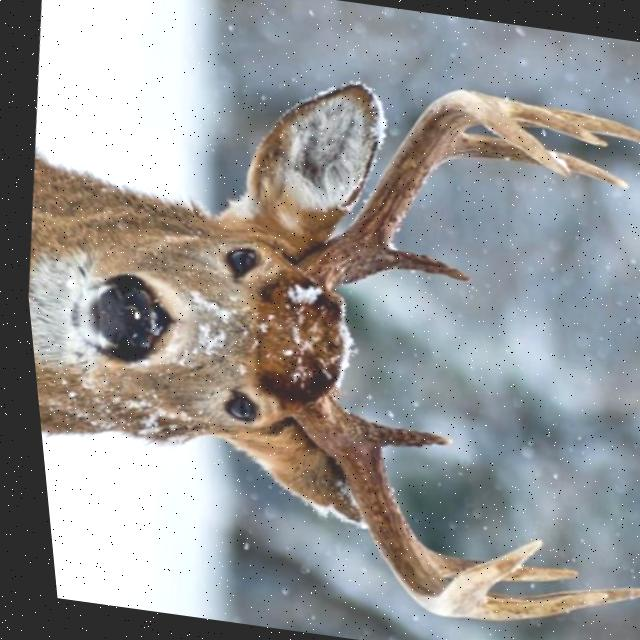L-F: (282, 388, 533, 618)
L-G1: (360, 420, 445, 448)
R-F: (292, 88, 569, 304)
R-G1: (372, 248, 467, 281)
